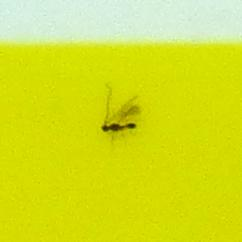Hymenoptera: (100, 100, 142, 142)
